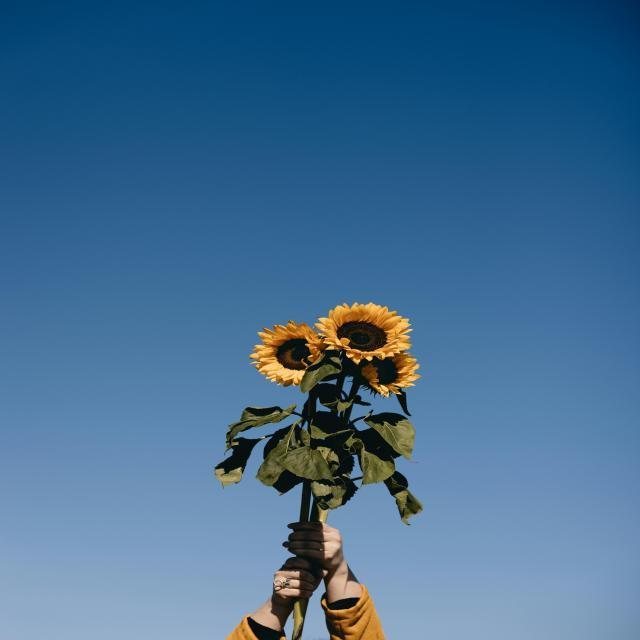sunflower: (314, 302, 414, 364), (249, 319, 329, 387), (359, 352, 422, 398)
